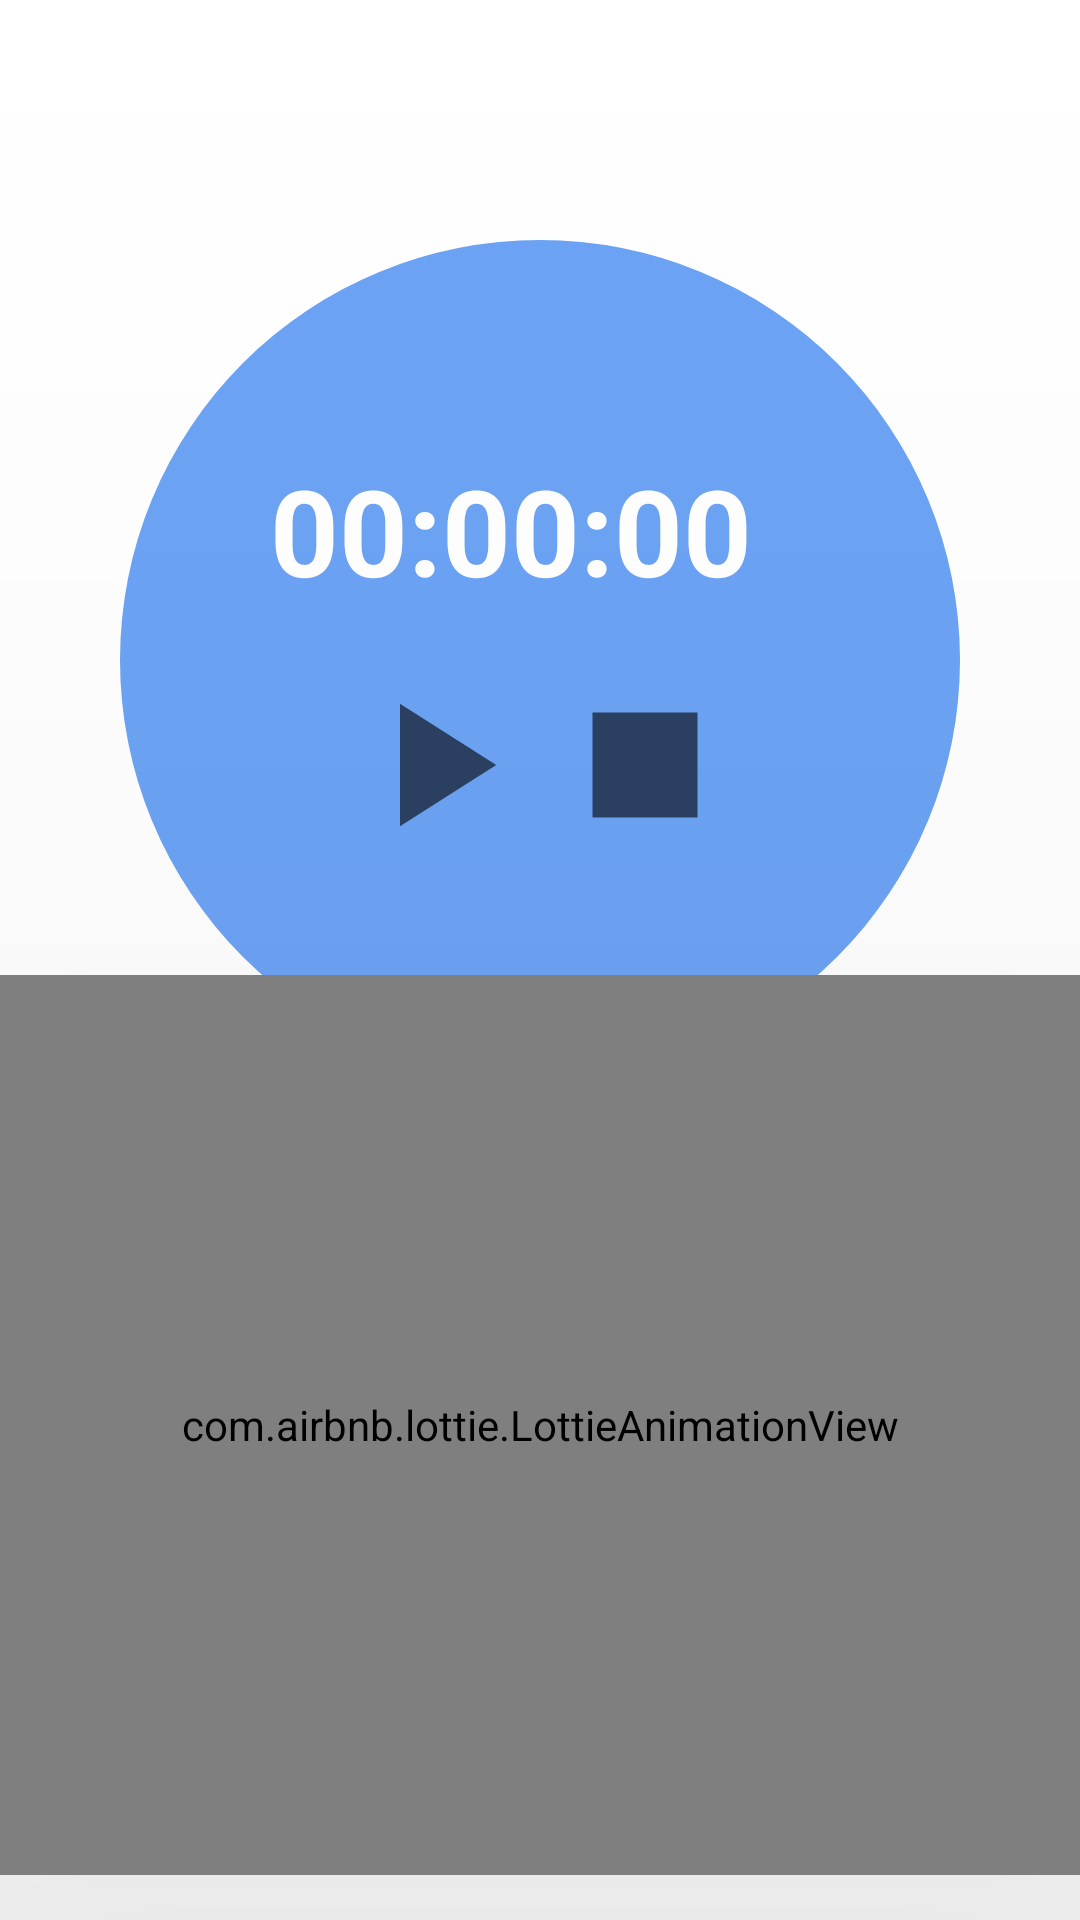

Screen size 1080 × 1920. Icon name, then its box in pixels as (x1, y1, x2, y2):
start: (400, 704, 496, 826)
stop: (592, 712, 698, 818)
